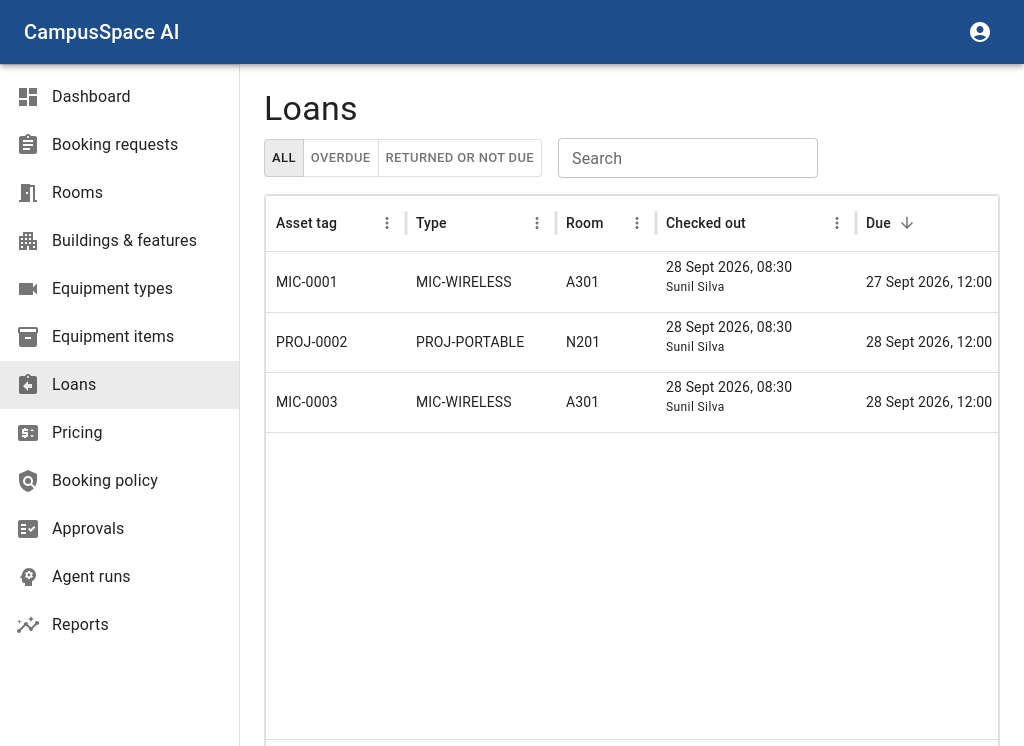
it: LoansPage › shows an error with Retry when the photo cannot be loaded
Click the text "PROJ-0002" at coordinates (336, 342), box [266, 312, 406, 372]
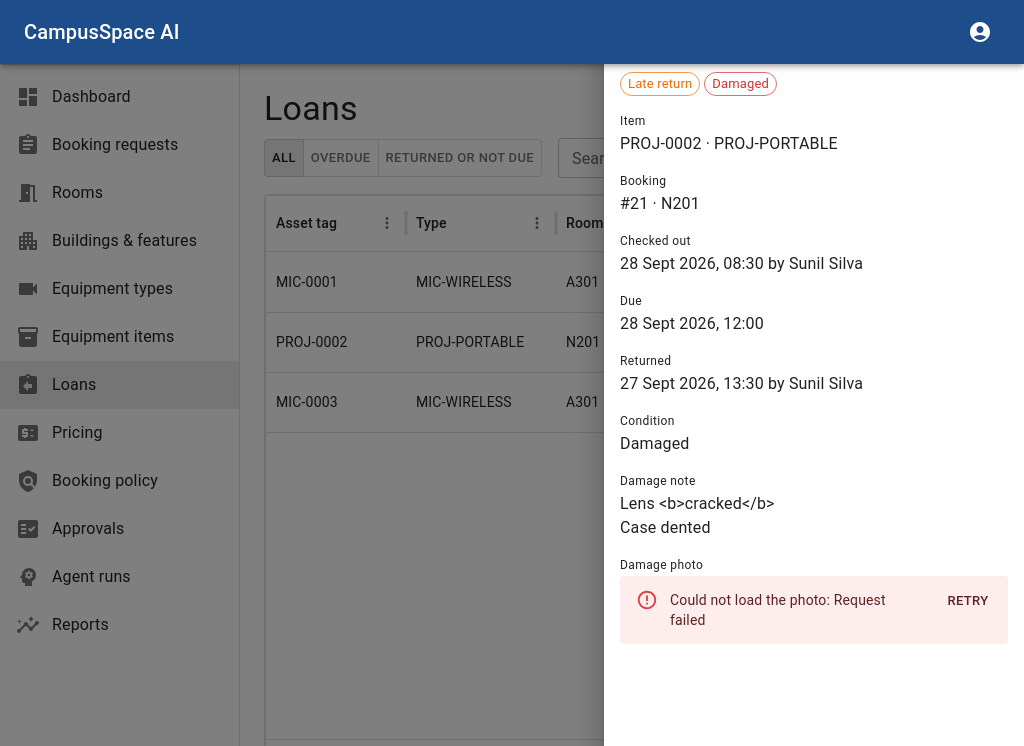
Expected: the text "Could not load the photo: Request failed" is shown, [670, 582, 920, 638]
Expected: the button "Retry" is shown, [936, 586, 1000, 617]
